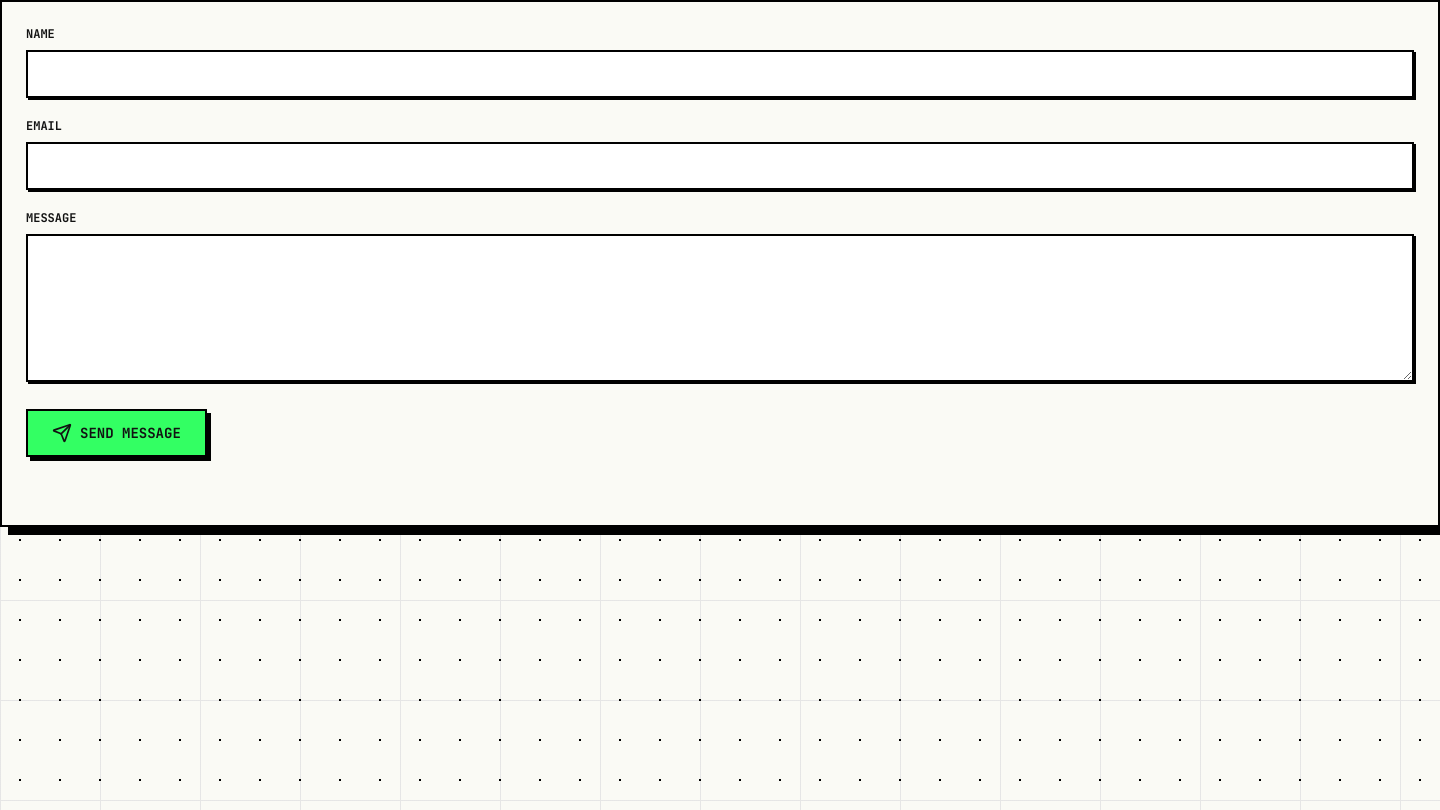
ContactForm › clears an error once the field is corrected and resubmitted
Click the button "SEND MESSAGE" at (116, 433), box [26, 409, 207, 457]
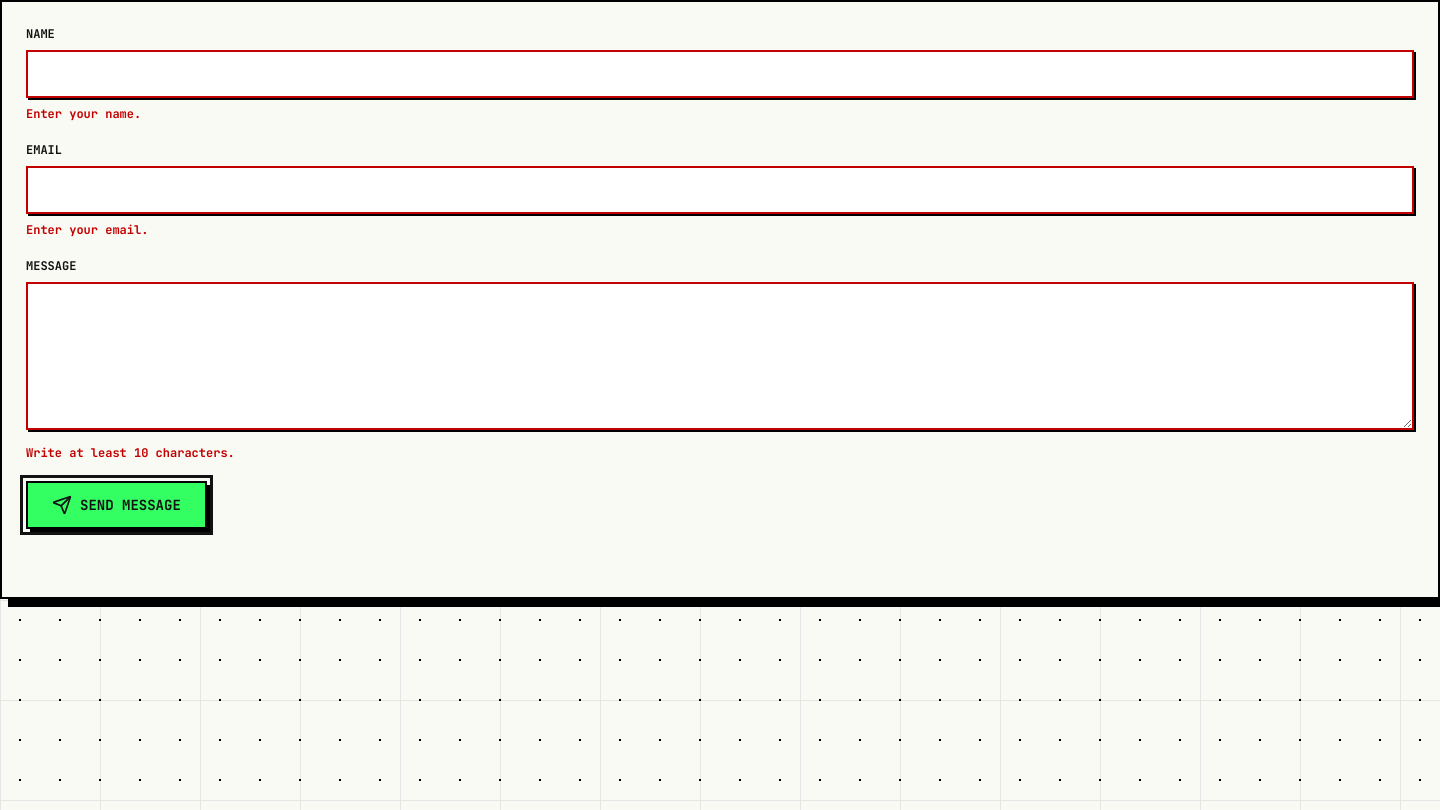
Type "Jane" into the field labelled "NAME" at (720, 74), box [26, 50, 1414, 98]
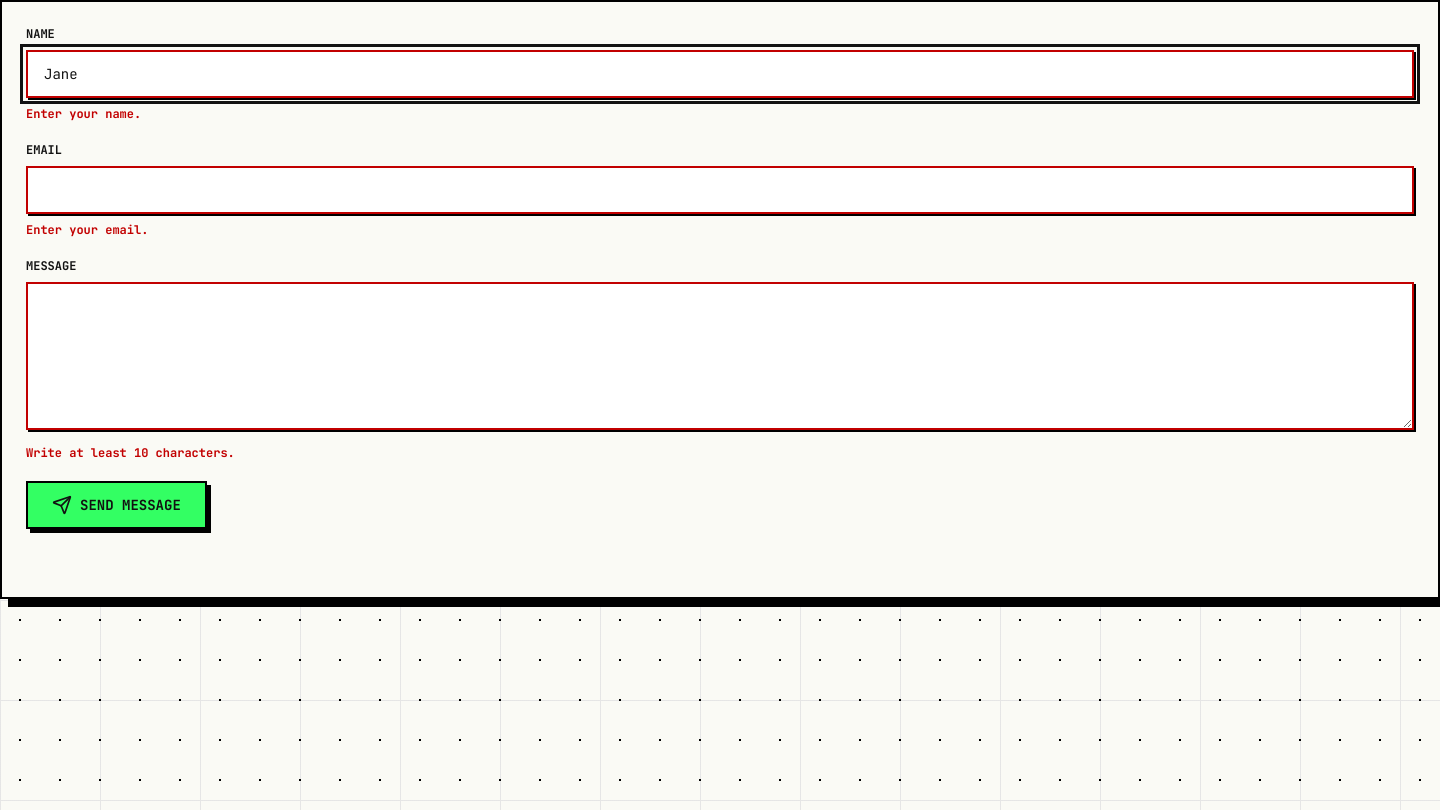
Click the button "SEND MESSAGE" at (116, 505), box [26, 481, 207, 529]
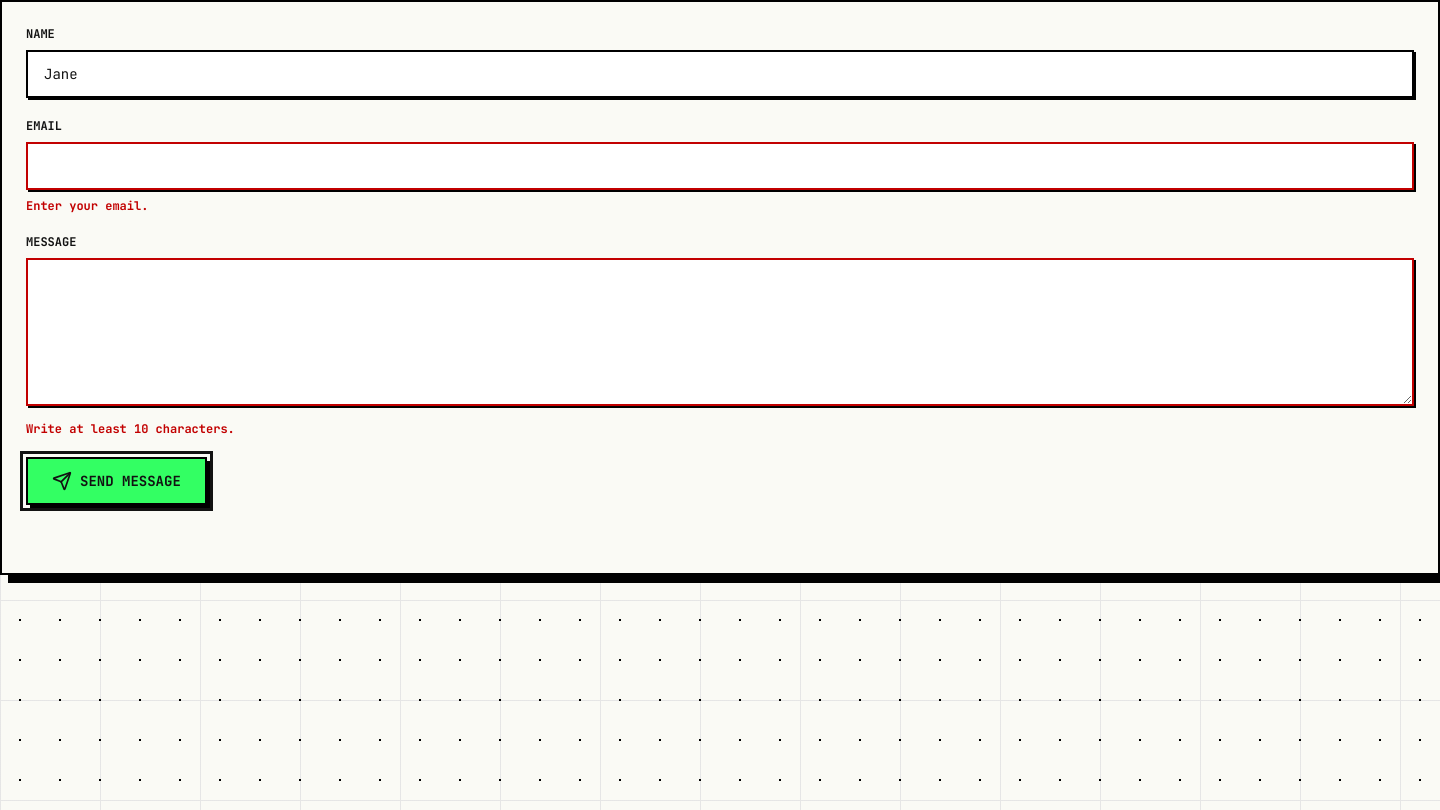
Now the text "Enter your name." is gone
